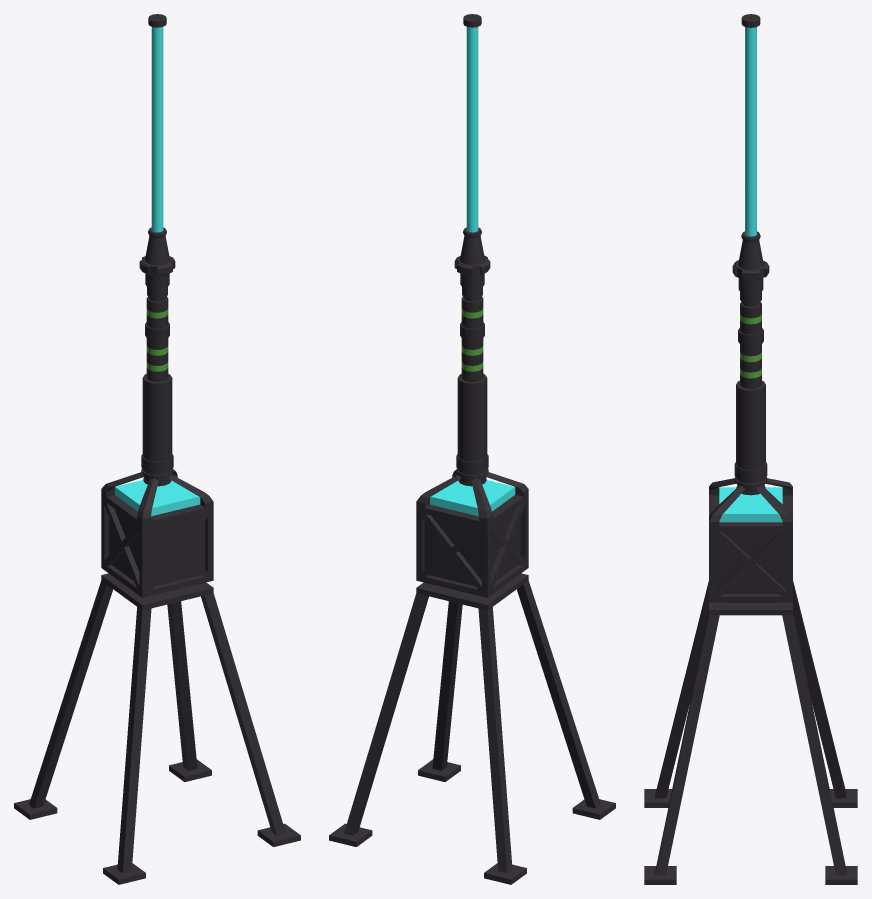
File: SM_Building_Decor_08.fbx
3 views of the same model, side by side, from view 1: azimuth 30°, elevation 25°; view 2: azimuth 150°, elevation 25°; view 3: azimuth 270°, elevation 25° (orthographic).
Parts seen in each view (by area): view 1: SM_Building_Decor_08; view 2: SM_Building_Decor_08; view 3: SM_Building_Decor_08.
Part boxes in pixels (x1,y1,x2,y2): SM_Building_Decor_08: [14, 14, 300, 884]; SM_Building_Decor_08: [329, 14, 615, 884]; SM_Building_Decor_08: [644, 14, 857, 884].
Bounding box in the file's own units: 0.4259 × 1.8 × 0.4237.
